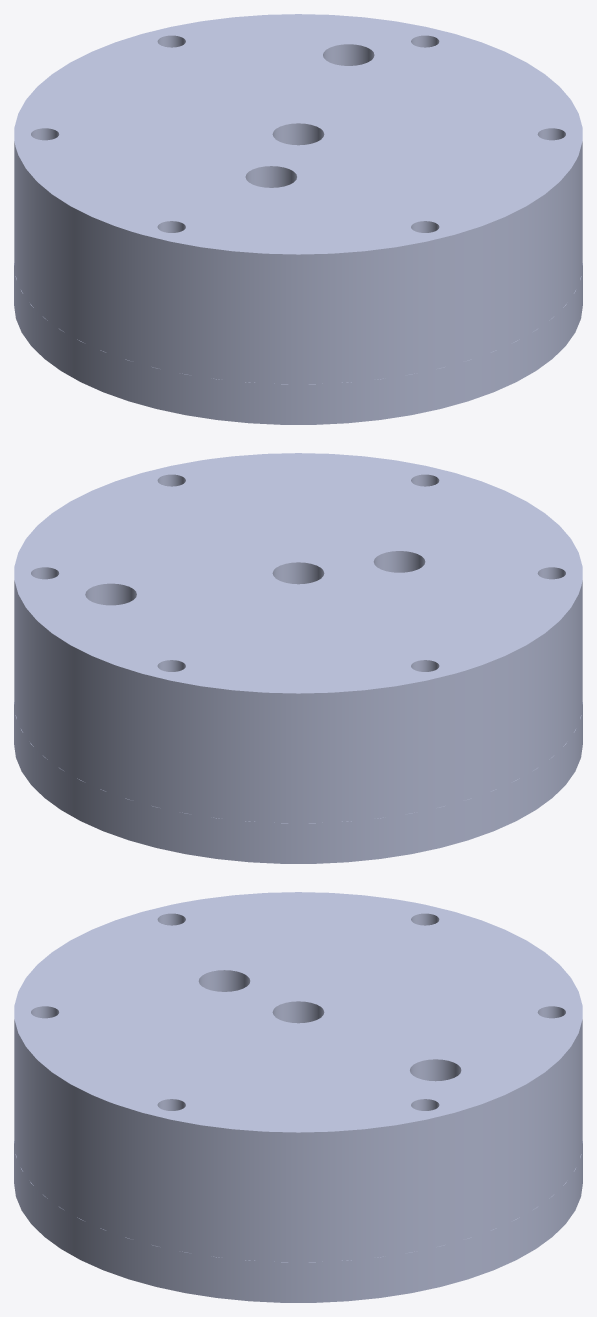
File: injector-assembly.glb
3 views of the same model, one above another, from view 1: azimuth 30°, elevation 25°; view 2: azimuth 150°, elevation 25°; view 3: azimuth 270°, elevation 25° (orthographic).
Parts seen in each view (by area): view 1: KSU Liquid Propulsion TOP PLATE.step-2, KSU Liquid Propulsion BOTTOM PLATE.step-2; view 2: KSU Liquid Propulsion TOP PLATE.step-2, KSU Liquid Propulsion BOTTOM PLATE.step-2; view 3: KSU Liquid Propulsion TOP PLATE.step-2, KSU Liquid Propulsion BOTTOM PLATE.step-2.
Boxes of the visible parts, left/top/right/bottom form: KSU Liquid Propulsion TOP PLATE.step-2: left=14, top=14, right=582, bottom=384; KSU Liquid Propulsion BOTTOM PLATE.step-2: left=14, top=263, right=582, bottom=424; KSU Liquid Propulsion TOP PLATE.step-2: left=14, top=453, right=582, bottom=823; KSU Liquid Propulsion BOTTOM PLATE.step-2: left=14, top=702, right=582, bottom=863; KSU Liquid Propulsion TOP PLATE.step-2: left=14, top=892, right=582, bottom=1262; KSU Liquid Propulsion BOTTOM PLATE.step-2: left=14, top=1141, right=582, bottom=1302.
Size of the model in its own units: 0.1397 by 0.0462 by 0.1397.
